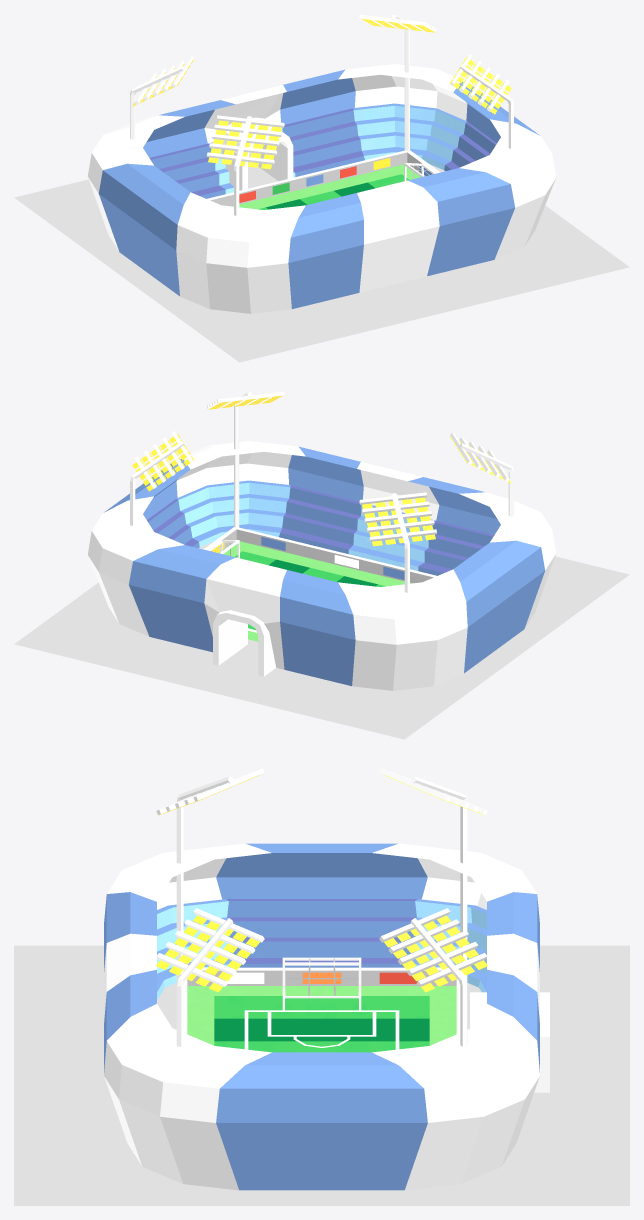
File: stadiums.003.glb
3 renders of one model, top to bottom at view 1: azimuth 30°, elevation 25°; view 2: azimuth 150°, elevation 25°; view 3: azimuth 270°, elevation 25°, orthographic. The views are drawn at different scales.
Visible parts, largest first — view 1: stadiums.003(Clone); view 2: stadiums.003(Clone); view 3: stadiums.003(Clone).
Boxes of the visible parts, x1,y1,x2,y2 form: stadiums.003(Clone): (14, 14, 629, 362); stadiums.003(Clone): (14, 391, 629, 739); stadiums.003(Clone): (14, 768, 629, 1205).
Bounding box in the file's own units: 16 × 6.79 × 16.
Materials: 1 (1 with a texture image).
